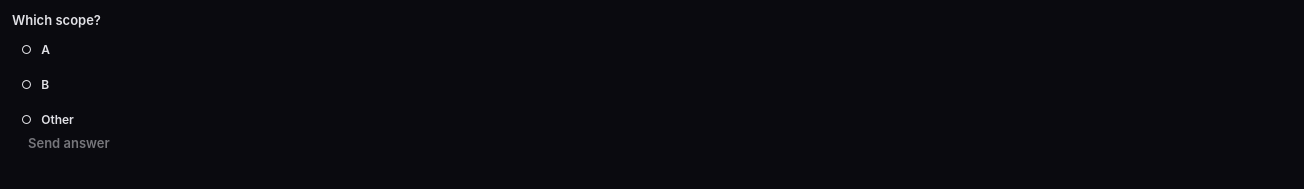
QuestionWizard plain dialog › renders the single picker with Send answer and posts step index 0
Expected: the text "Which scope?" is shown, [12,12,101,28]
Expected: the button "Send answer" is disabled, [12,135,126,151]
Click the radio button labelled "○ B" at point(27, 84), box [12,69,1292,100]
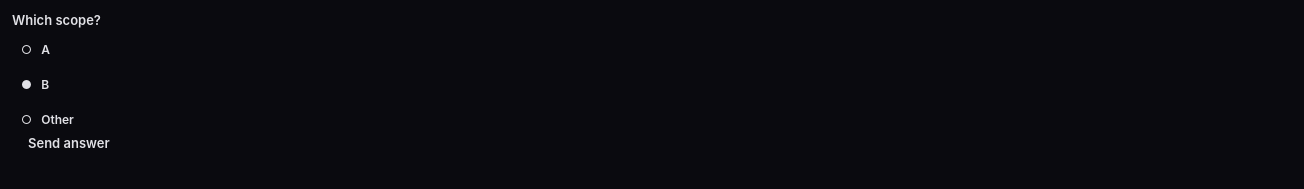
Click the button "Send answer" at point(69, 143), box [12,135,126,151]
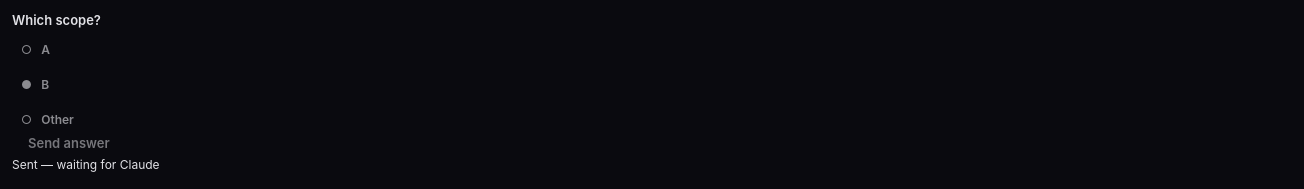
Expected: the text "Sent — waiting for Claude" is shown, [12,157,160,172]
